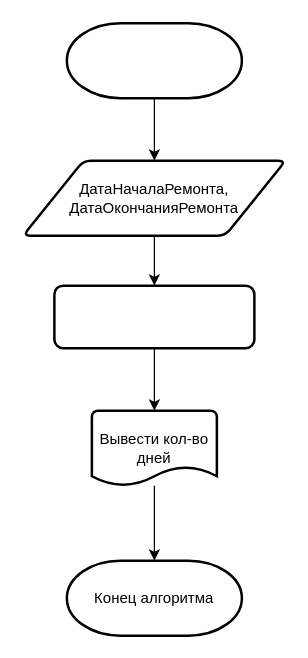
This 308x658 diagram has some shape labels left out. Each missing label, with the box of its shape:
Вычесть из ДатыОкончанияРемонта ДатуНачалаРемонта: (52, 284, 255, 349)
Начало алгоритма среднего времени ремонта: (65, 21, 242, 99)
